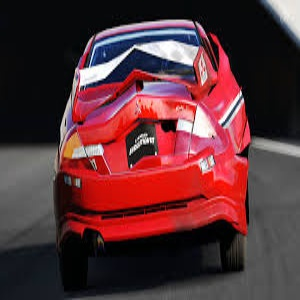bumper: (162, 152, 251, 238)
